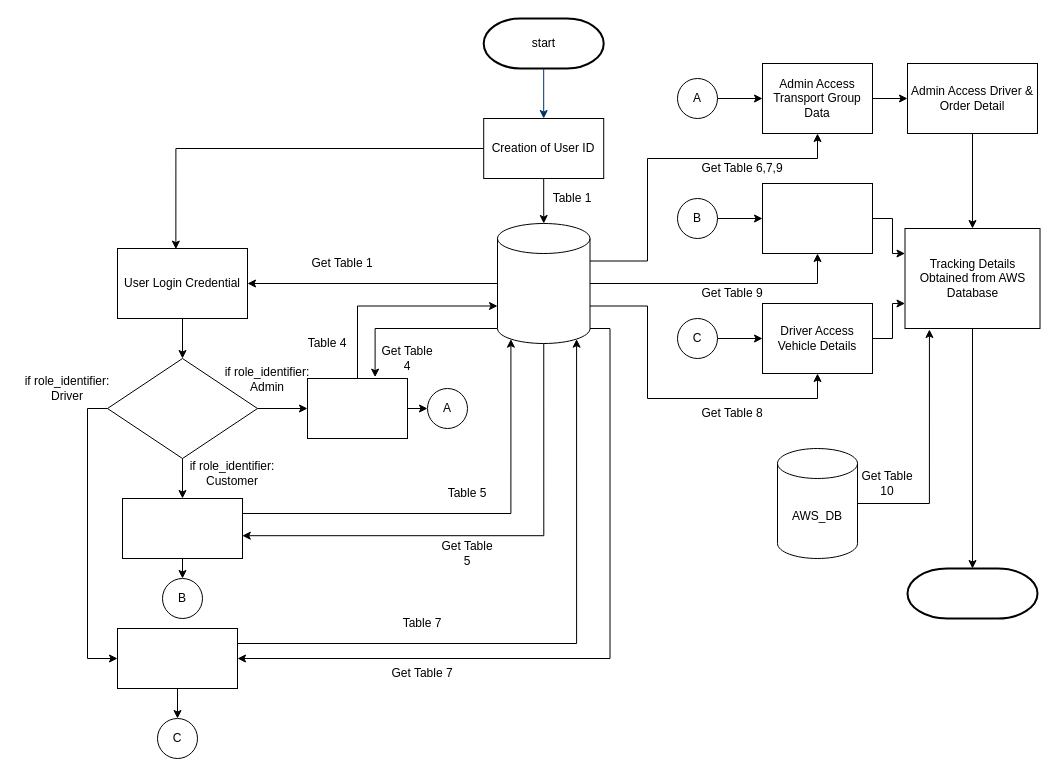
The diagram is 1057 pixels wide and 776 high, and some of its shapes have lost their labels. The shapes that lost their labels are listed below. From the top down, each one's box as (x1, y1, x2, y2) in pixels, then its label:
(762, 182, 872, 254): Customer Access Order Details
(496, 222, 590, 344): TMS_DB
(106, 358, 258, 458): Decision based on user_type
(306, 378, 408, 438): Data for Admin
(122, 498, 242, 558): Data for Customer
(906, 567, 1038, 619): end
(116, 628, 238, 688): Data for Driver
